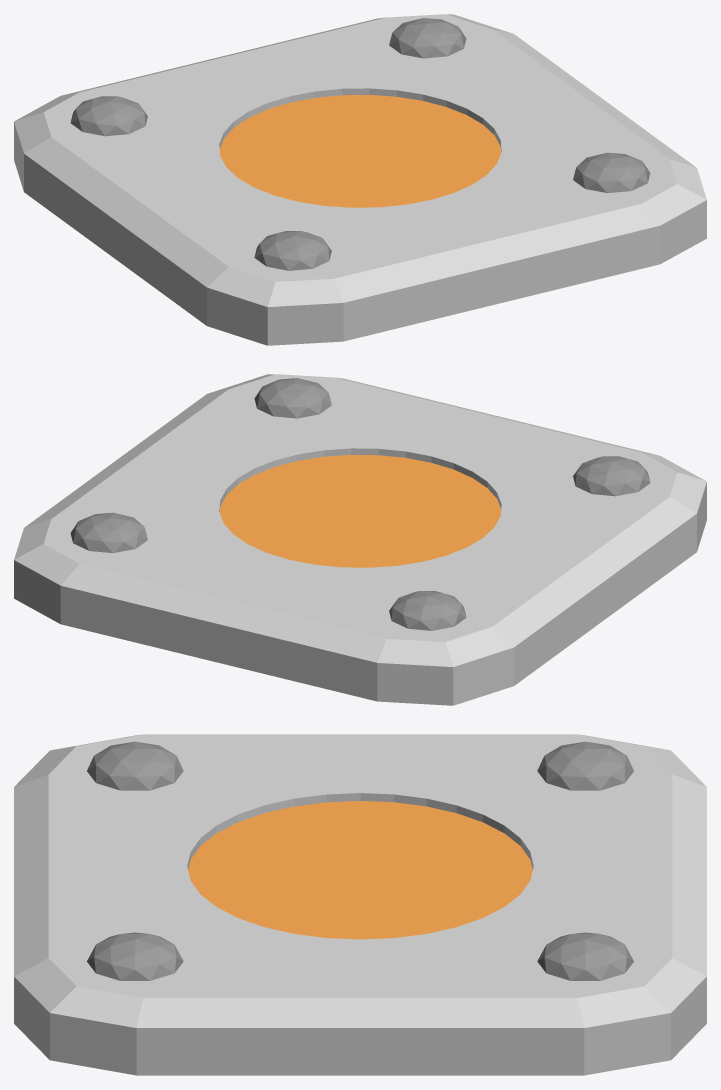
File: Button down.fbx
3 renders of one model, top to bottom at view 1: azimuth 30°, elevation 25°; view 2: azimuth 150°, elevation 25°; view 3: azimuth 270°, elevation 25°, orthographic. The views are drawn at different scales.
Parts seen in each view (by area): view 1: Cube; view 2: Cube; view 3: Cube.
Boxes of the visible parts, box(x1,y1,x2,y2) form: Cube: box(14, 14, 706, 345); Cube: box(14, 374, 706, 705); Cube: box(14, 734, 706, 1075).
Bounding box in the file's own units: 200 × 27 × 200.
